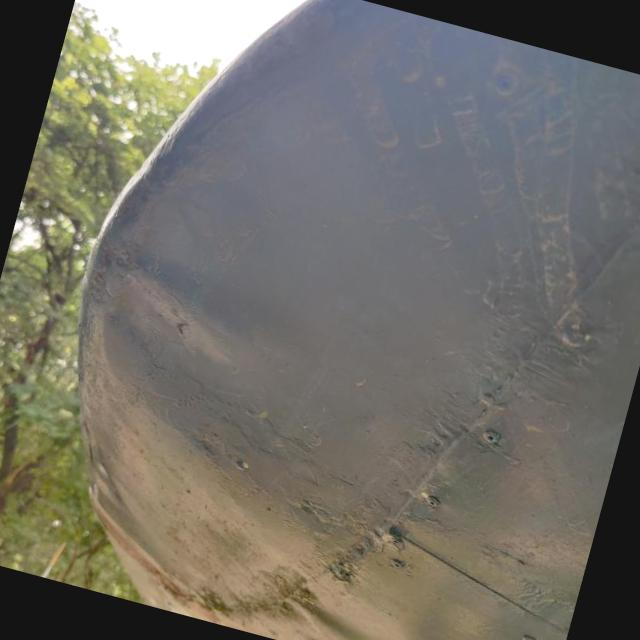dent: (69, 226, 284, 389), (242, 551, 435, 640)
